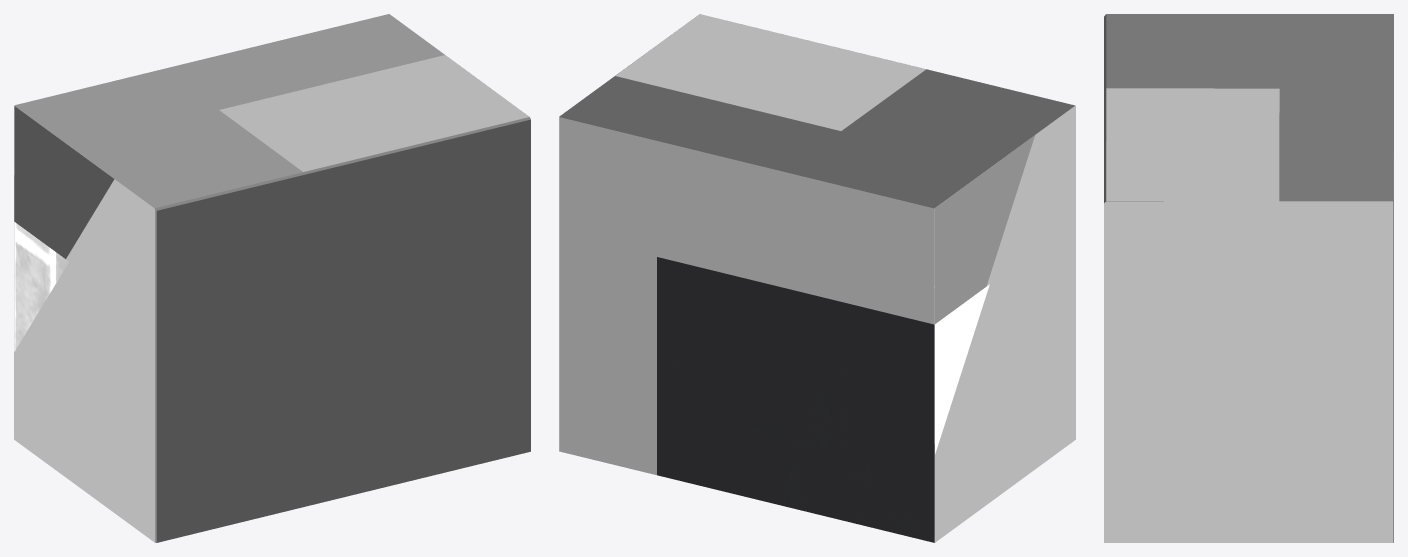
File: SM_RoomManagerB.fbx
The picture shows the model from 3 angles, left to right: view 1: azimuth 30°, elevation 25°; view 2: azimuth 150°, elevation 25°; view 3: azimuth 270°, elevation 25°; orthographic projection. The views are drawn at different scales.
Visible parts, largest first — view 1: SM_RoomManagerB_ConvexHulls, SM_RoomManagerB; view 2: SM_RoomManagerB_ConvexHulls, SM_RoomManagerB; view 3: SM_RoomManagerB_ConvexHulls, SM_RoomManagerB.
Boxes of the visible parts, box(x1,y1,x2,y2) form: SM_RoomManagerB_ConvexHulls: box(14, 14, 530, 542); SM_RoomManagerB: box(14, 55, 528, 351); SM_RoomManagerB_ConvexHulls: box(559, 14, 1075, 542); SM_RoomManagerB: box(615, 14, 1034, 542); SM_RoomManagerB_ConvexHulls: box(1104, 14, 1393, 542); SM_RoomManagerB: box(1106, 88, 1279, 201).
Size of the model in its own units: 540 by 353 by 460.
